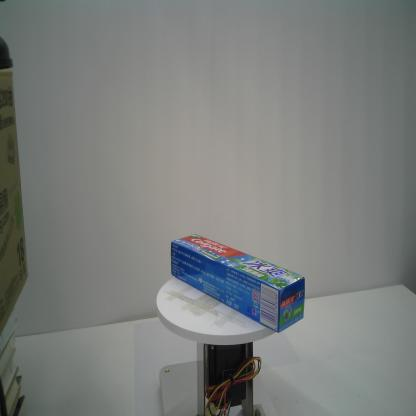Personal Hygiene: (170, 234, 306, 334)
